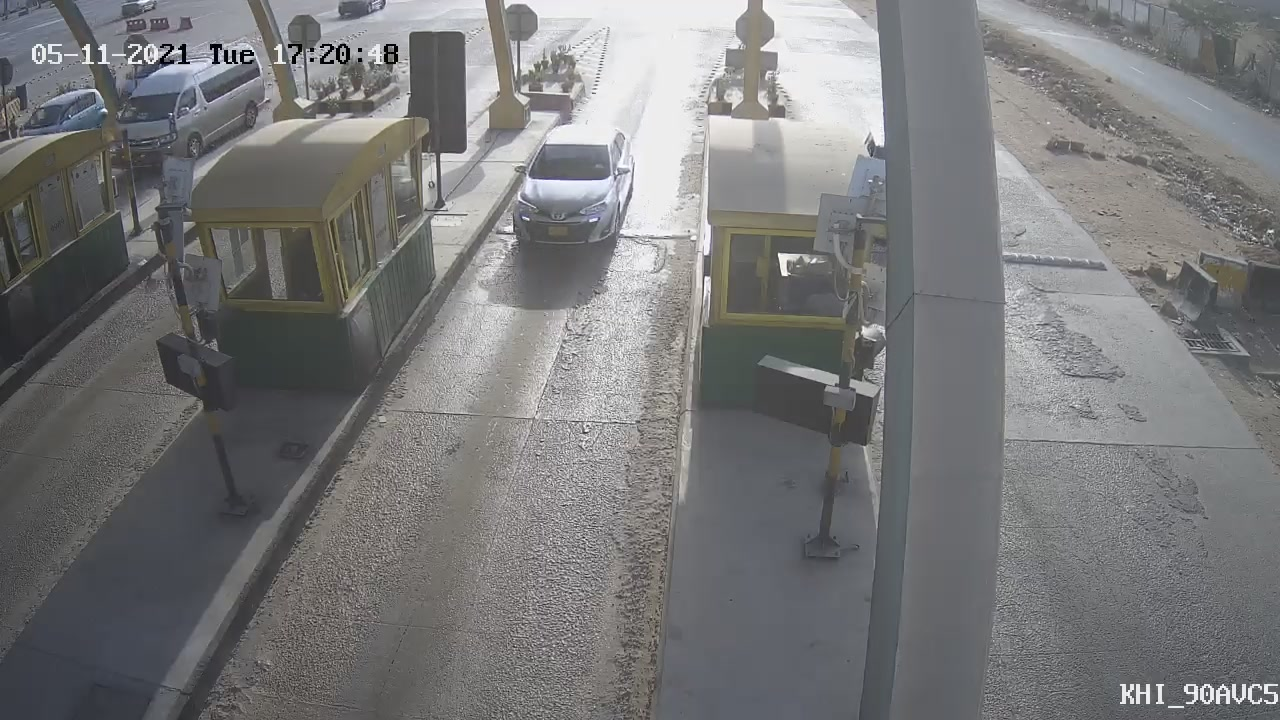F1: (483, 105, 656, 274)
